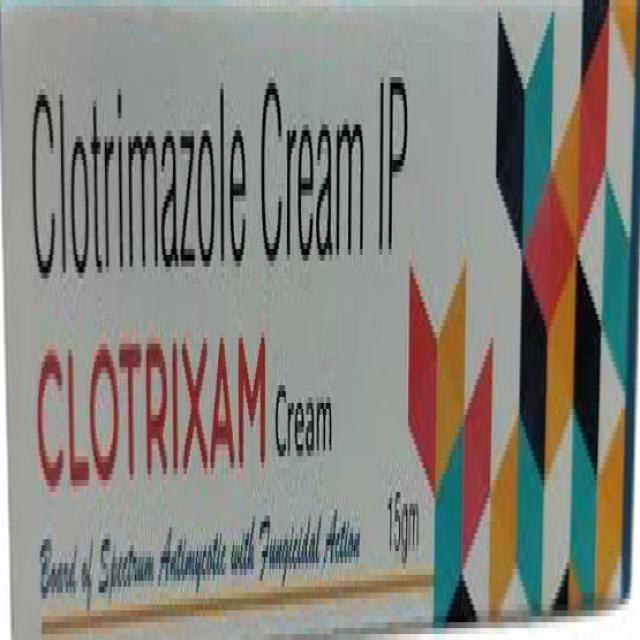drug-name: (36, 332, 270, 492)
